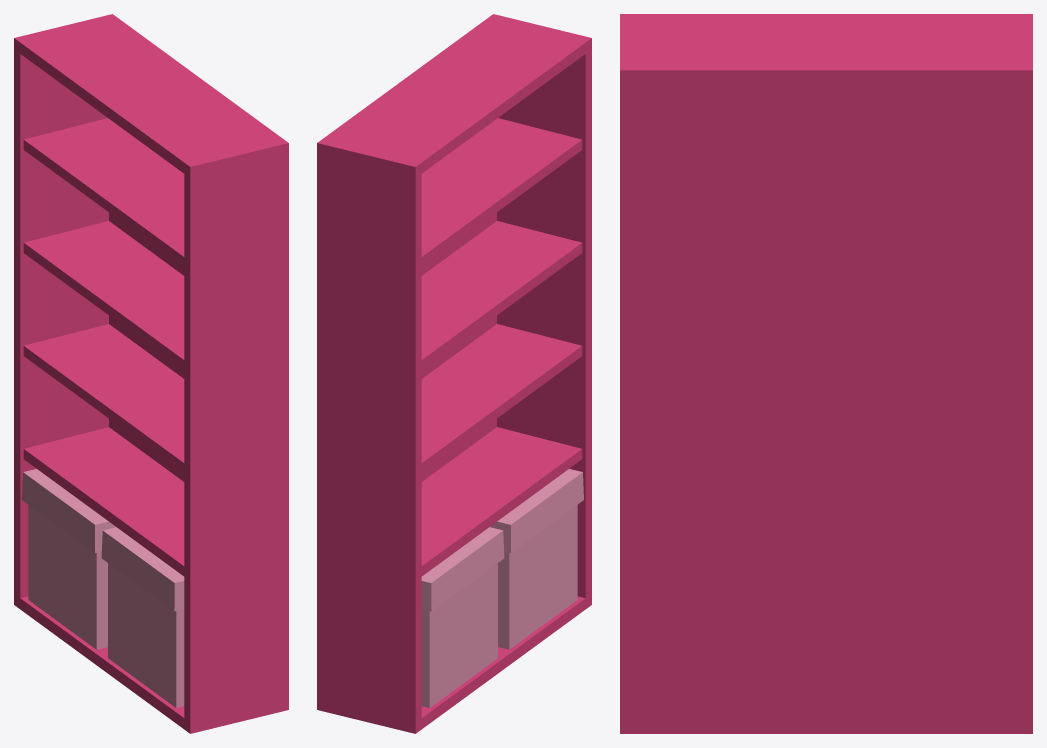
File: furniture_decor_210007.glb
3 views of the same model, side by side, from view 1: azimuth 30°, elevation 25°; view 2: azimuth 150°, elevation 25°; view 3: azimuth 270°, elevation 25° (orthographic). The views are drawn at different scales.
Parts seen in each view (by area): view 1: furniture_decor_210007; view 2: furniture_decor_210007; view 3: furniture_decor_210007.
Boxes of the visible parts, <box> form: furniture_decor_210007: <box>14,14,288,733</box>; furniture_decor_210007: <box>317,14,591,733</box>; furniture_decor_210007: <box>620,14,1032,733</box>.
Size of the model in its own units: 0.3124 by 1.65 by 0.93.
1 material, 1 textured.
